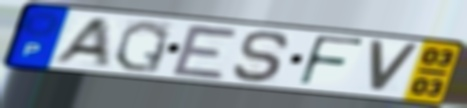A: (47, 17, 111, 67)
E: (168, 22, 243, 82)
F: (295, 33, 368, 89)
Q: (110, 18, 173, 75)
S: (230, 29, 294, 85)
V: (367, 38, 423, 95)
